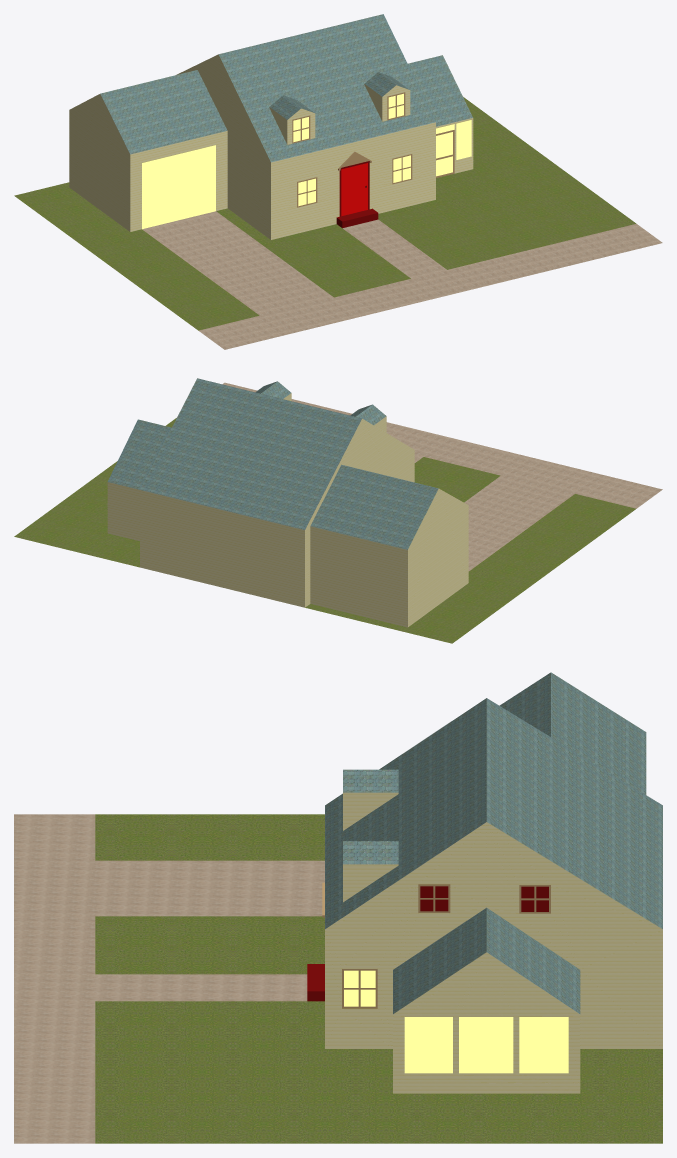
File: gulli_bulli_house.glb
3 views of the same model, one above another, from view 1: azimuth 30°, elevation 25°; view 2: azimuth 150°, elevation 25°; view 3: azimuth 270°, elevation 25° (orthographic). The views are drawn at different scales.
Visible parts, largest first — view 1: Material3 (×8), Material2; view 2: Material3 (×4); view 3: Material3 (×6), Material2.
Part boxes in pixels (x1,y1,x2,y2): Material3 (×8): (14, 14, 662, 349); Material2: (336, 161, 378, 228); Material3 (×4): (14, 378, 662, 643); Material3 (×6): (14, 672, 662, 1143); Material2: (307, 886, 548, 1001).
Bounding box in the file's own units: 1830 × 588 × 1524.
Materials: 10 (6 with a texture image).
